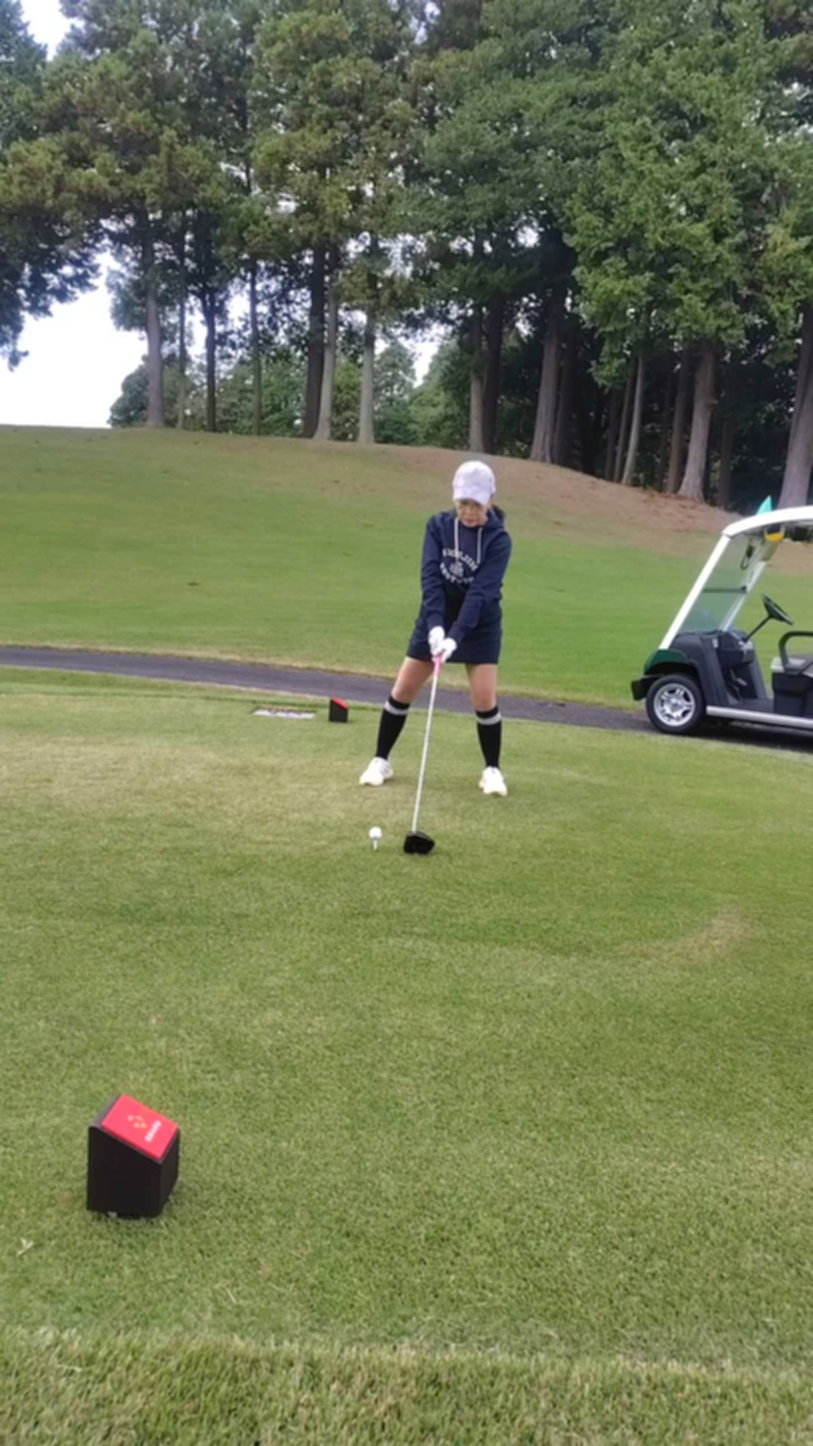clubhead: (272, 784, 495, 951)
